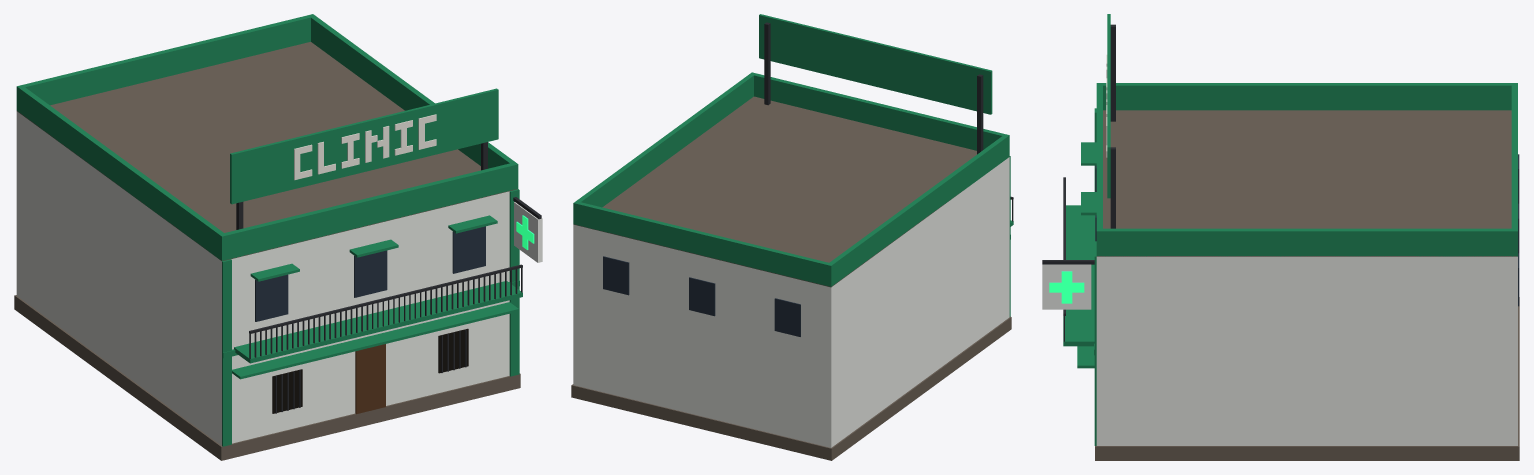
File: bld_ot_clinic.glb
The picture shows the model from 3 angles, left to right: view 1: azimuth 30°, elevation 25°; view 2: azimuth 150°, elevation 25°; view 3: azimuth 270°, elevation 25°; orthographic projection. The views are drawn at different scales.
Parts seen in each view (by area): view 1: bld_ot_clinic; view 2: bld_ot_clinic; view 3: bld_ot_clinic.
Part boxes in pixels (x1,y1,x2,y2): bld_ot_clinic: (14, 14, 542, 460); bld_ot_clinic: (571, 14, 1013, 460); bld_ot_clinic: (1042, 14, 1519, 460).
Size of what is drawn, in the model's own units: 10.1 by 9.6 by 13.6.
